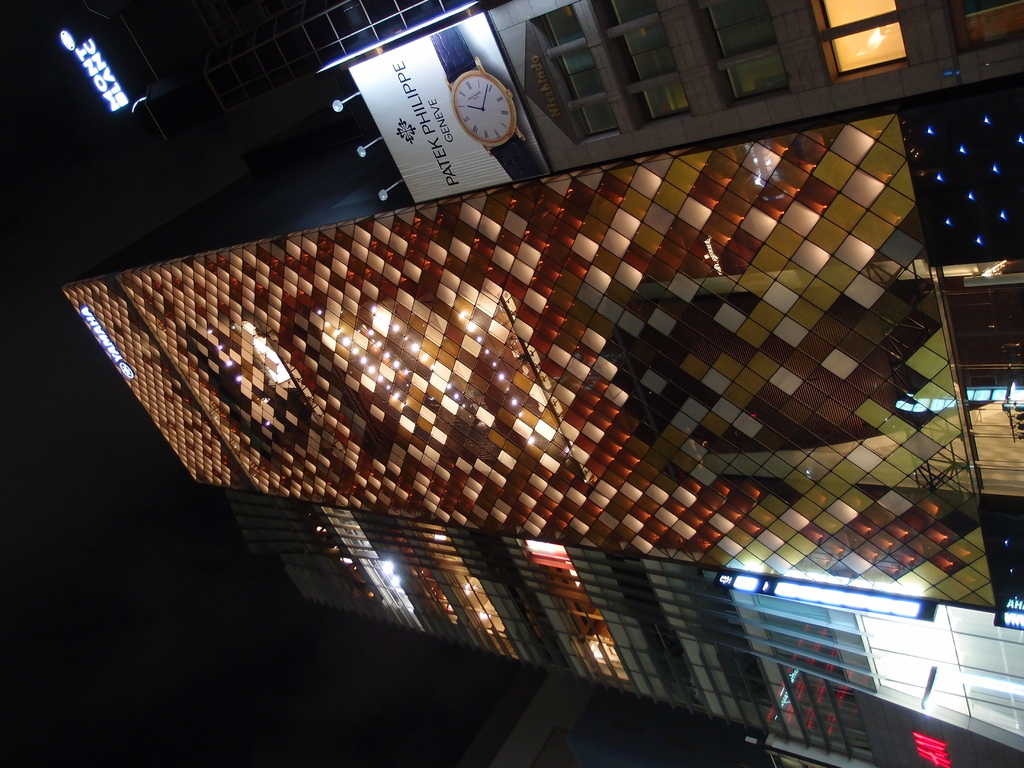watch: (445, 23, 524, 182)
